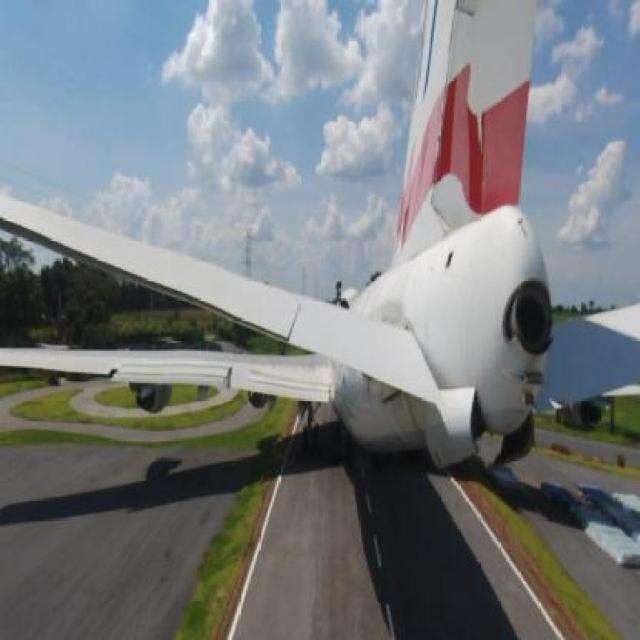Rust: (378, 389, 430, 456)
